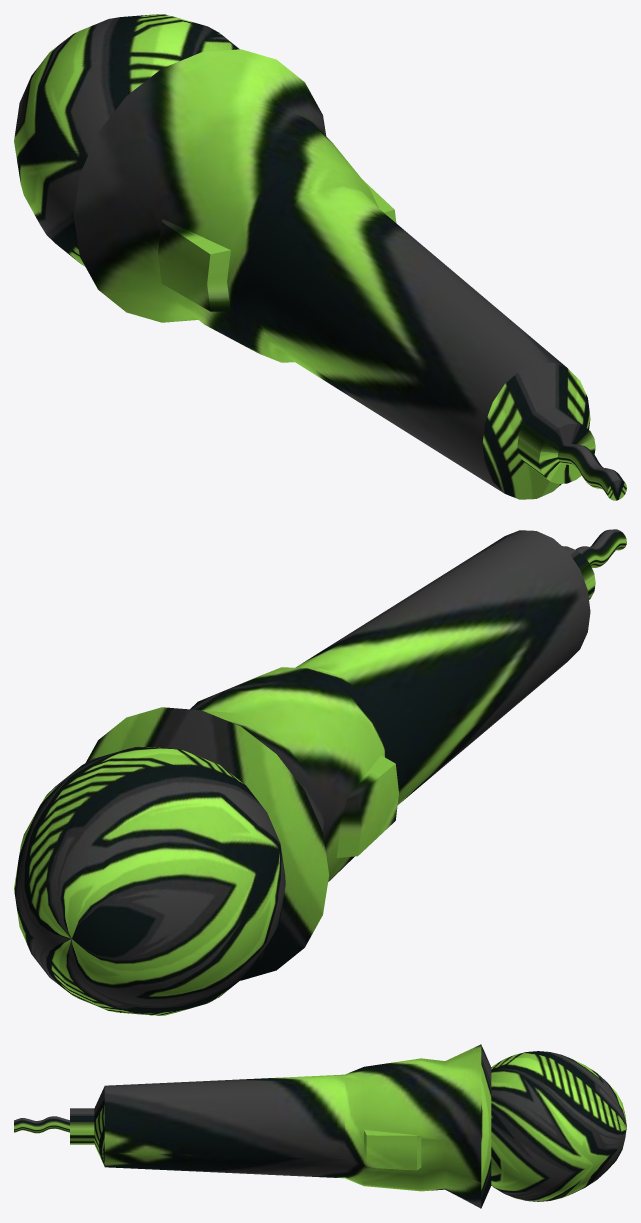
File: microfono_modelado_001.fbx
3 renders of one model, top to bottom at view 1: azimuth 30°, elevation 25°; view 2: azimuth 150°, elevation 25°; view 3: azimuth 270°, elevation 25°, orthographic. The views are drawn at different scales.
Parts seen in each view (by area): view 1: pSphere1; view 2: pSphere1; view 3: pSphere1.
Part boxes in pixels (bbox=[...]): pSphere1: bbox=[14, 14, 626, 500]; pSphere1: bbox=[14, 529, 626, 1015]; pSphere1: bbox=[14, 1044, 626, 1208].
Size of the model in its own units: 1.14 by 1.14 by 4.2.
